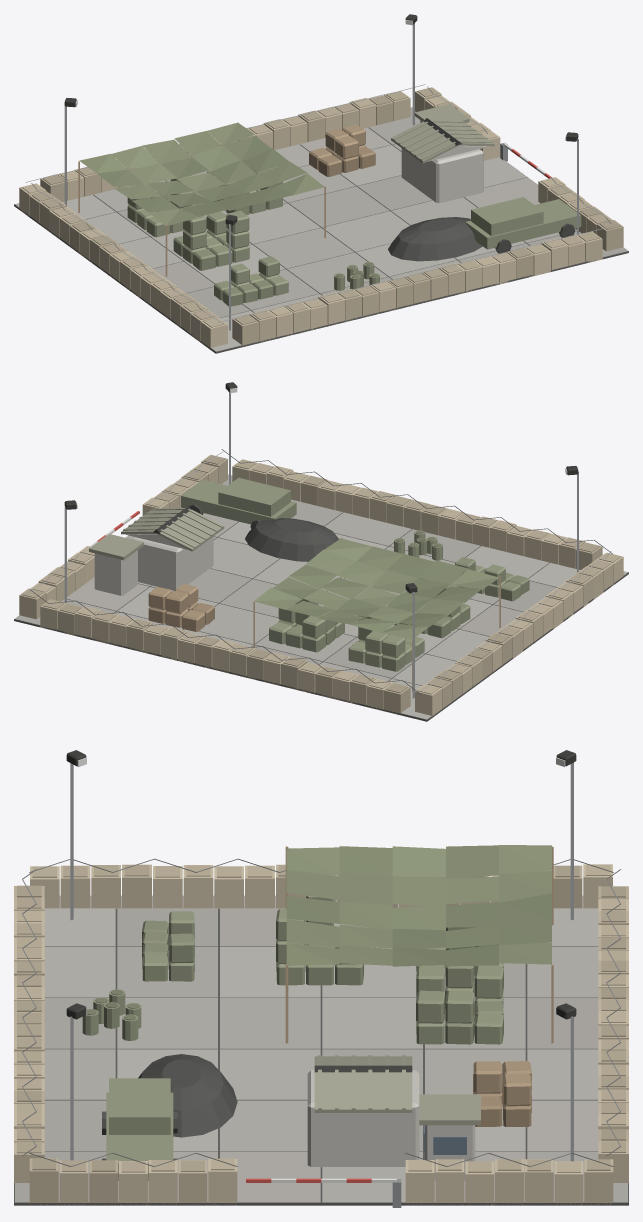
Rendered from b_depot.glb.
3 renders of one model, top to bottom at view 1: azimuth 30°, elevation 25°; view 2: azimuth 150°, elevation 25°; view 3: azimuth 270°, elevation 25°, orthographic. The views are drawn at different scales.
Visible parts, largest first — view 1: hull; view 2: hull; view 3: hull.
Part boxes in pixels (<box>): hull: <box>14,14,628,353</box>; hull: <box>14,382,628,721</box>; hull: <box>14,750,628,1207</box>.
Size of the model in its own units: 26.2 by 6.78 by 22.
